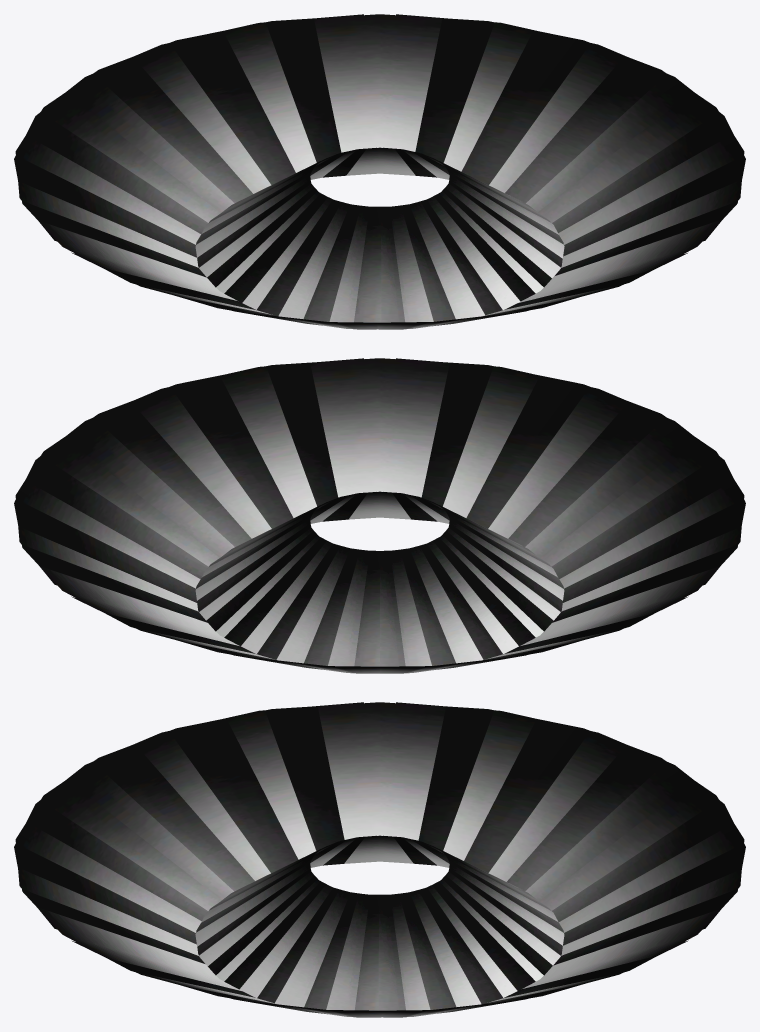
The model's file is vfx_kurp_0941.dae.
3 views of the same model, one above another, from view 1: azimuth 30°, elevation 25°; view 2: azimuth 150°, elevation 25°; view 3: azimuth 270°, elevation 25° (orthographic).
Visible parts, largest first — view 1: vfx_kurp_0941; view 2: vfx_kurp_0941; view 3: vfx_kurp_0941.
Boxes of the visible parts, bbox=[...] form: vfx_kurp_0941: bbox=[14, 14, 745, 329]; vfx_kurp_0941: bbox=[14, 358, 745, 673]; vfx_kurp_0941: bbox=[14, 702, 745, 1017].
Bounding box in the file's own units: 10.48 × 10.49 × 1.31.
Materials: 1 (1 with a texture image).
